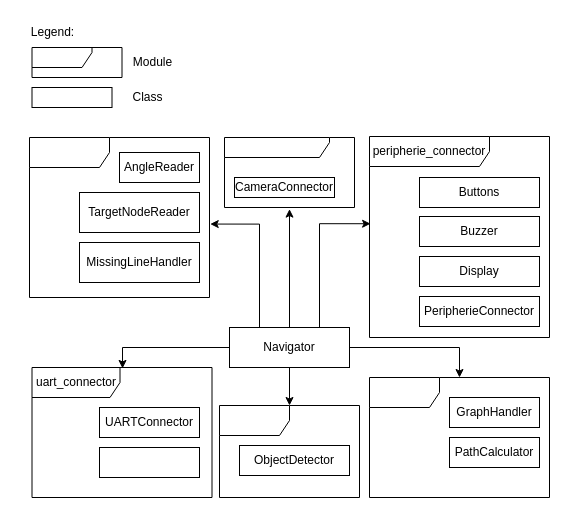
This 567x515 diagram has some shape labels left out. Each missing label, with the centre of its shape:
"camera_connector" goes at pixel 289 172.
"ErrorHandler" goes at pixel 149 462.
"frame" goes at pixel 76 62.
"node_reader" goes at pixel 119 217.
"path_finder" goes at pixel 459 437.
"path_reader" goes at pixel 289 451.
"xyz" goes at pixel 71 97.
